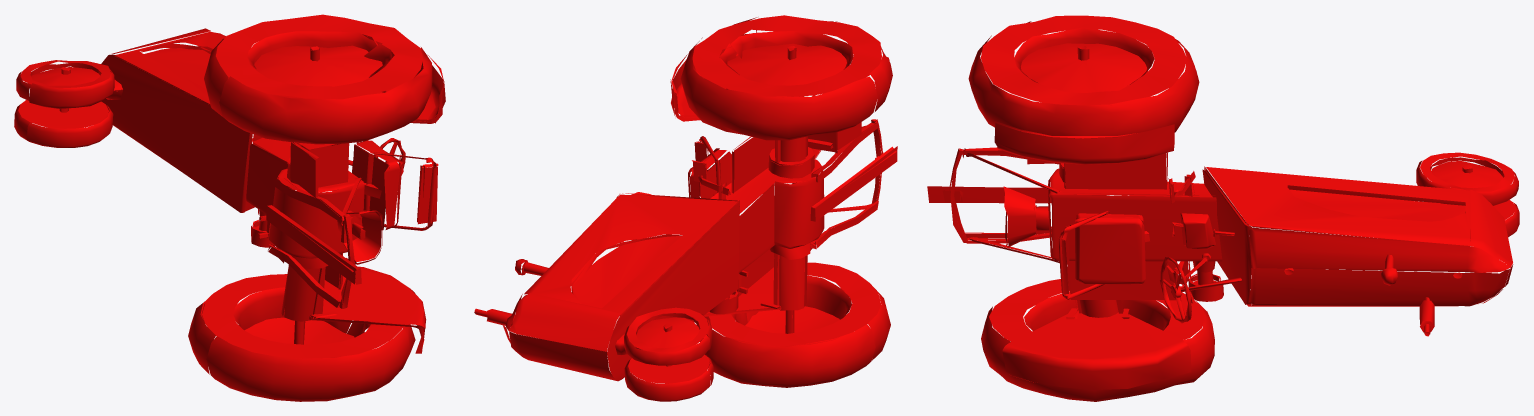
The picture shows the model from 3 angles, left to right: view 1: azimuth 30°, elevation 25°; view 2: azimuth 150°, elevation 25°; view 3: azimuth 270°, elevation 25°; orthographic projection. The views are drawn at different scales.
Visible parts, largest first — view 1: Renderer Node; view 2: Renderer Node; view 3: Renderer Node.
Boxes of the visible parts, bbox=[...] form: Renderer Node: bbox=[14, 14, 445, 401]; Renderer Node: bbox=[474, 15, 897, 401]; Renderer Node: bbox=[927, 15, 1519, 401].
Bounding box in the file's own units: 0.943 × 1.09 × 1.78.
Materials: 1 (1 with a texture image).
